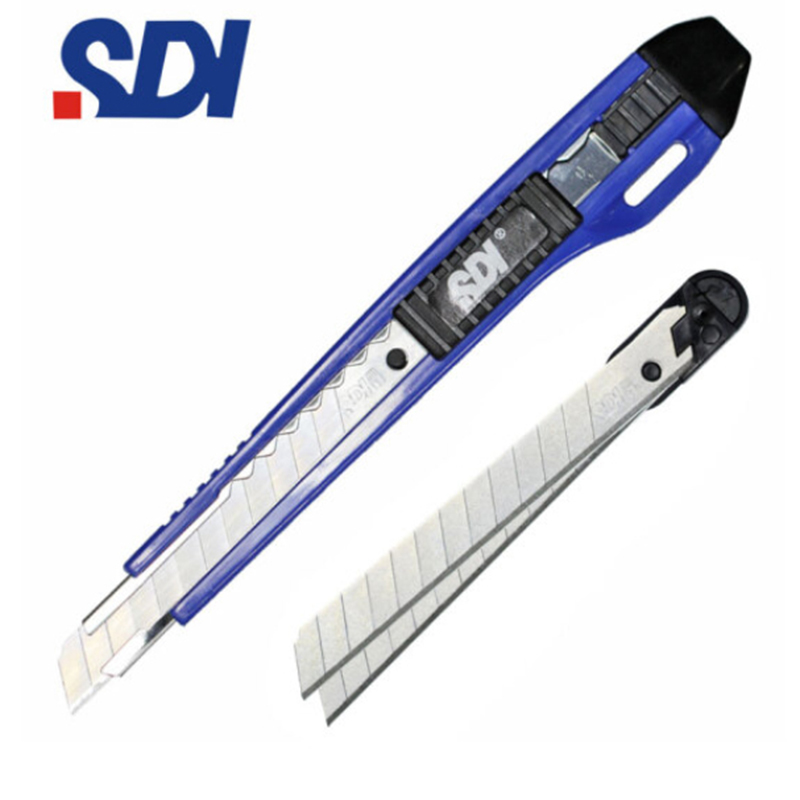cutter: (59, 18, 753, 721), (297, 271, 750, 720)
